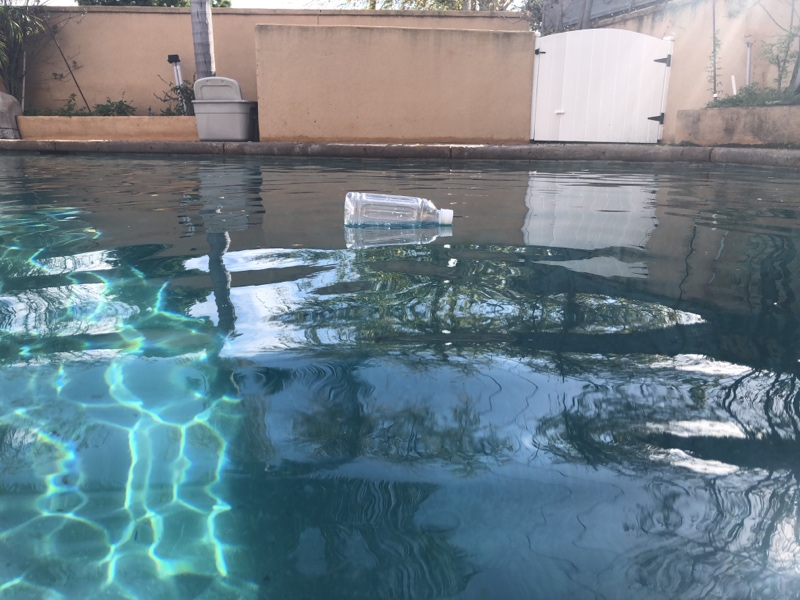Plastic Bottle: (343, 187, 456, 235)
